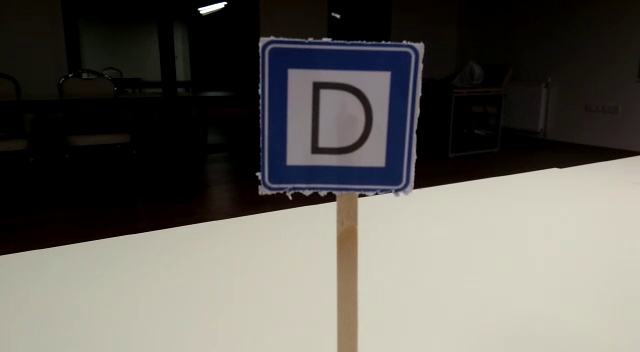durak: (258, 41, 420, 192)
